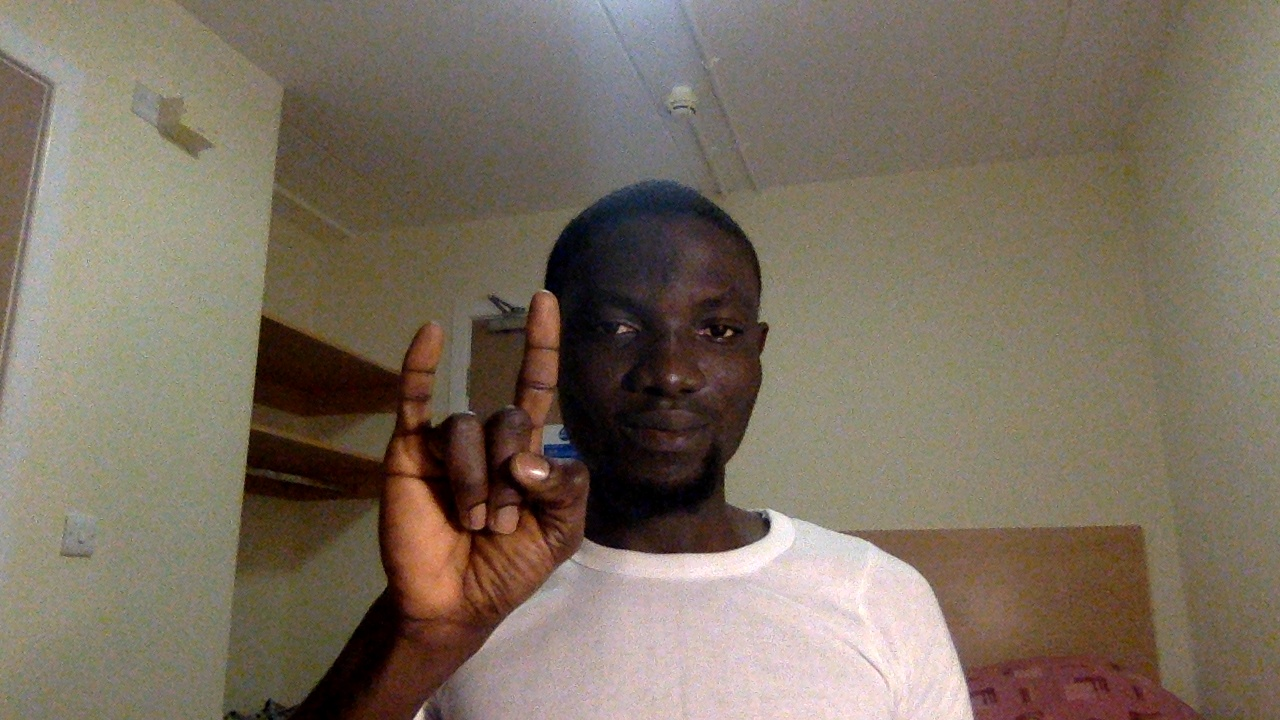I Love You: (375, 286, 596, 665)
